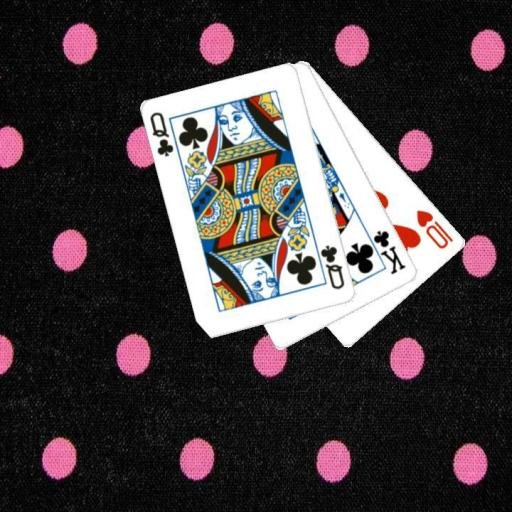10H: (413, 207, 455, 251)
KC: (363, 227, 408, 276)
QC: (147, 109, 176, 159), (318, 242, 346, 292)
